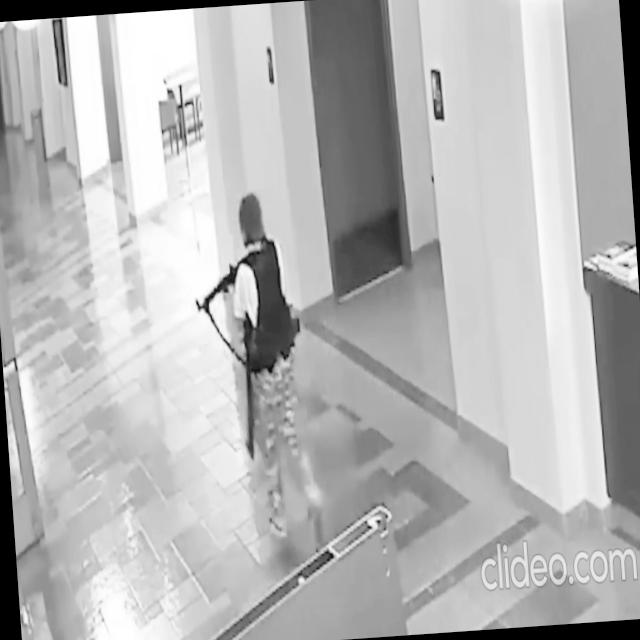gun: (234, 308, 263, 462), (191, 256, 246, 314)
person with a gun: (187, 185, 328, 548)
